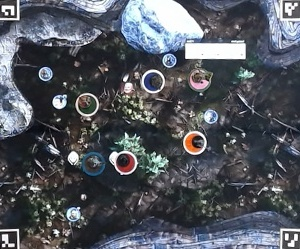blue: (142, 70, 165, 93)
brown_turquoise: (82, 152, 105, 175)
green: (75, 92, 98, 115)
orange: (185, 131, 208, 154)
pink_green: (188, 68, 211, 91)
red: (113, 150, 136, 173)
